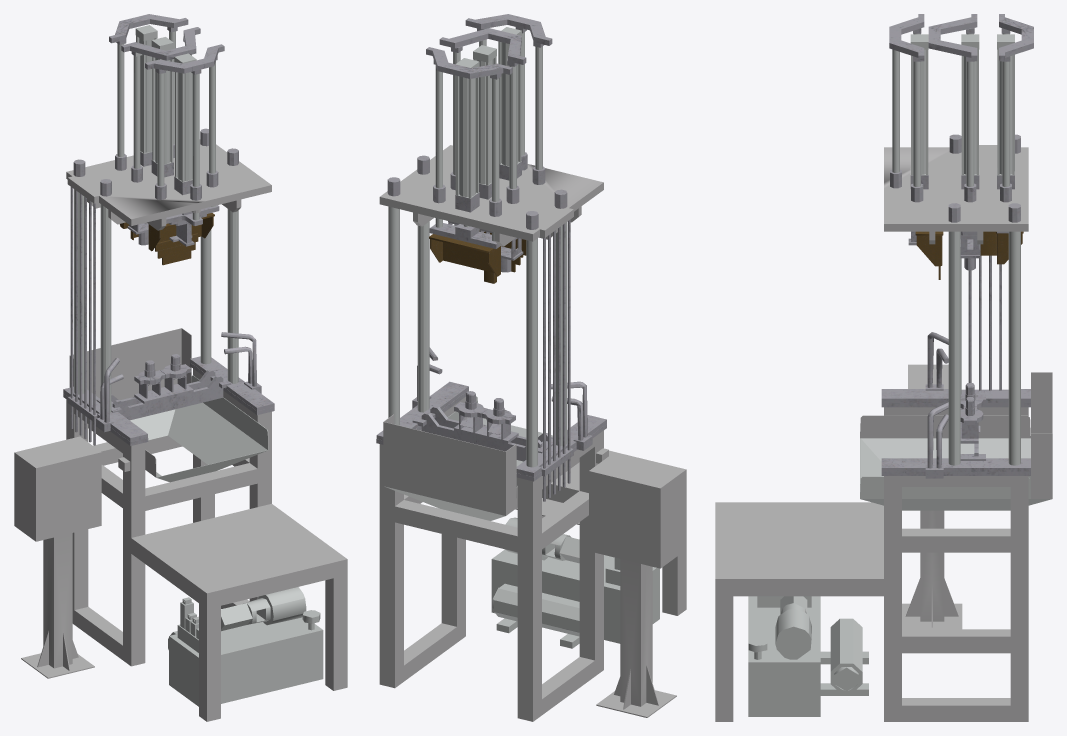
3 renders of one model, left to right at view 1: azimuth 30°, elevation 25°; view 2: azimuth 150°, elevation 25°; view 3: azimuth 270°, elevation 25°, orthographic. The views are drawn at different scales.
Parts seen in each view (by area): view 1: N_2098, N_2386, N_1407; view 2: N_2098, N_1407, N_2386; view 3: N_2098, N_2386, N_1407.
Boxes of the visible parts, x1,y1,x2,y2 form: N_2098: [14, 25, 347, 721]; N_2386: [148, 61, 219, 265]; N_1407: [109, 14, 188, 240]; N_2098: [376, 14, 686, 721]; N_1407: [426, 47, 512, 283]; N_2386: [479, 32, 542, 272]; N_2098: [715, 14, 1052, 721]; N_2386: [892, 33, 943, 279]; N_1407: [980, 14, 1033, 264].
Bounding box in the file's own units: 2.49 × 5.94 × 2.8.
Materials: 2 (2 with a texture image).
